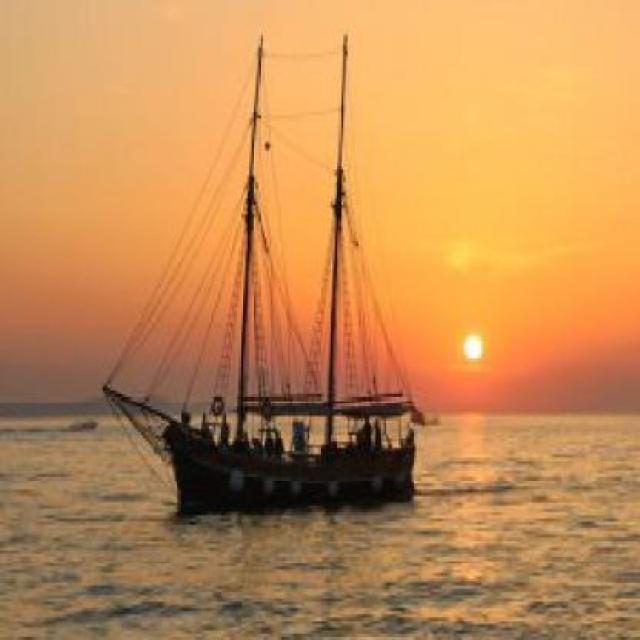fish-b: (90, 17, 441, 536)
